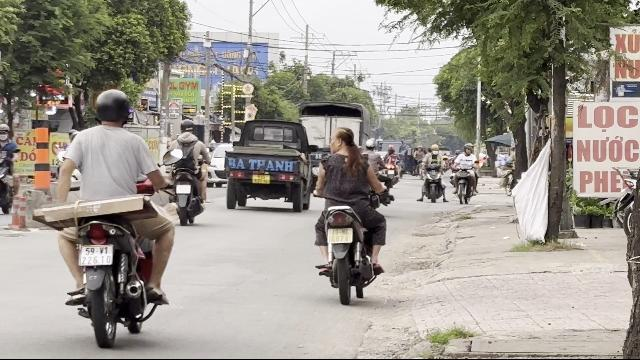helmet: (93, 89, 131, 127)
licenseplate: (80, 246, 112, 266), (328, 228, 352, 244)
motorcyclist: (31, 86, 179, 346), (308, 123, 389, 301)
nohelmet: (328, 126, 358, 156)
